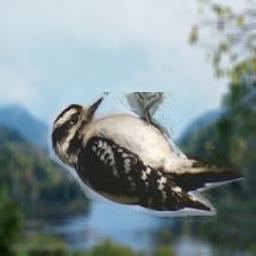Woodpecker: (39, 92, 247, 222)
